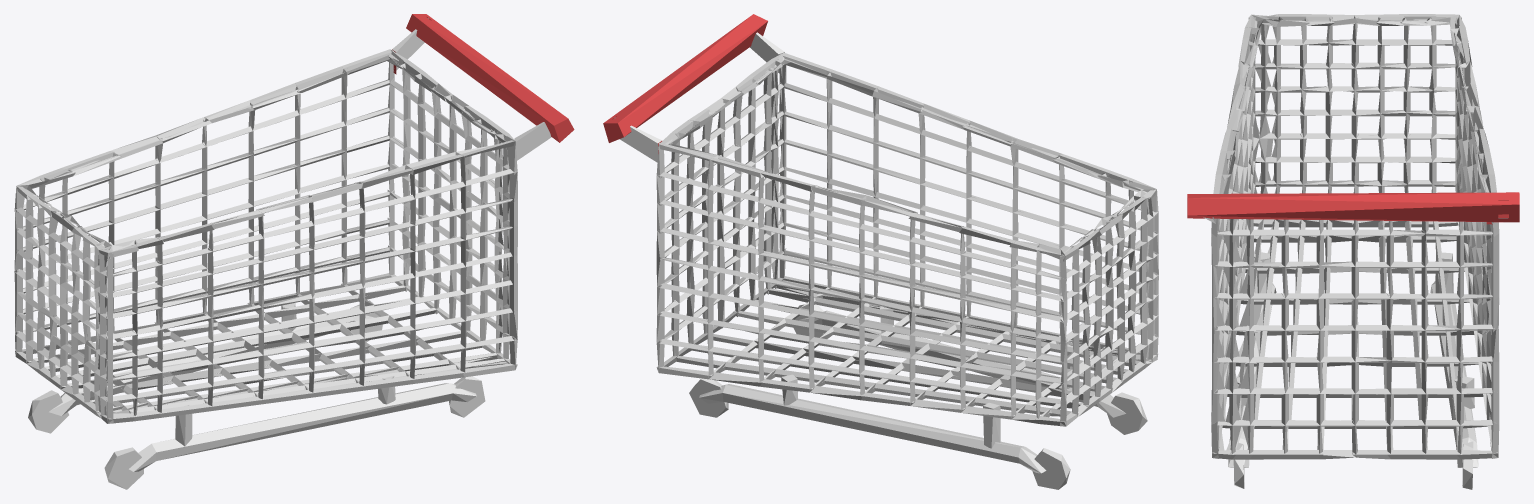
File: trolly.fbx
3 renders of one model, left to right at view 1: azimuth 30°, elevation 25°; view 2: azimuth 150°, elevation 25°; view 3: azimuth 270°, elevation 25°, orthographic. The views are drawn at different scales.
Parts seen in each view (by area): view 1: Cube, Cylinder.003, Cylinder, Cylinder.001; view 2: Cube, Cylinder.003, Cylinder, Cylinder.001; view 3: Cube, Cylinder, Cylinder.003.
Part boxes in pixels (x1,y1,x2,y2): Cube: [14, 49, 517, 423]; Cylinder.003: [28, 300, 485, 489]; Cylinder: [392, 14, 574, 142]; Cylinder.001: [392, 18, 551, 160]; Cube: [656, 52, 1158, 426]; Cylinder.003: [689, 304, 1147, 489]; Cylinder: [603, 14, 767, 153]; Cylinder.001: [614, 32, 784, 162]; Cube: [1211, 14, 1499, 459]; Cylinder: [1187, 192, 1519, 224]; Cylinder.003: [1228, 252, 1478, 489].
Bounding box in the file's own units: 527 × 338 × 303.
